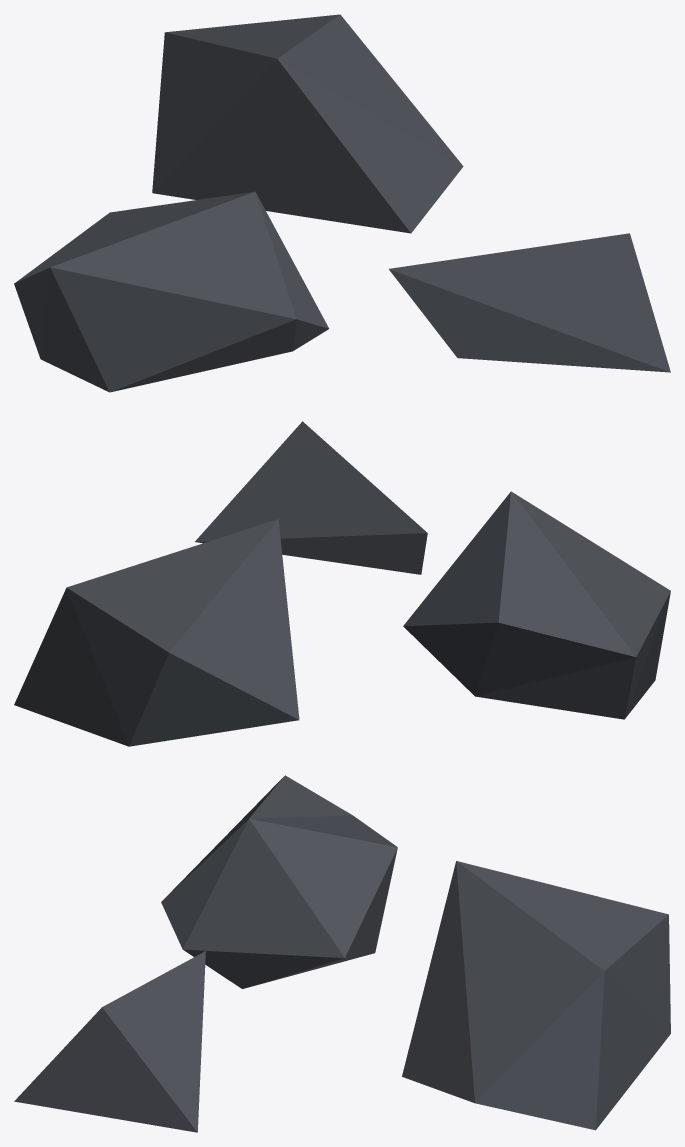
File: Rock_VS_3.fbx
3 renders of one model, top to bottom at view 1: azimuth 30°, elevation 25°; view 2: azimuth 150°, elevation 25°; view 3: azimuth 270°, elevation 25°, orthographic. The views are drawn at different scales.
Parts seen in each view (by area): view 1: polySurface535; view 2: polySurface535; view 3: polySurface535.
Part boxes in pixels (x1=…): polySurface535: x1=14, y1=14, x2=670, y2=392; polySurface535: x1=14, y1=421, x2=670, y2=746; polySurface535: x1=14, y1=775, x2=670, y2=1132.
Size of the model in its own units: 68.75 by 22.83 by 76.69.
